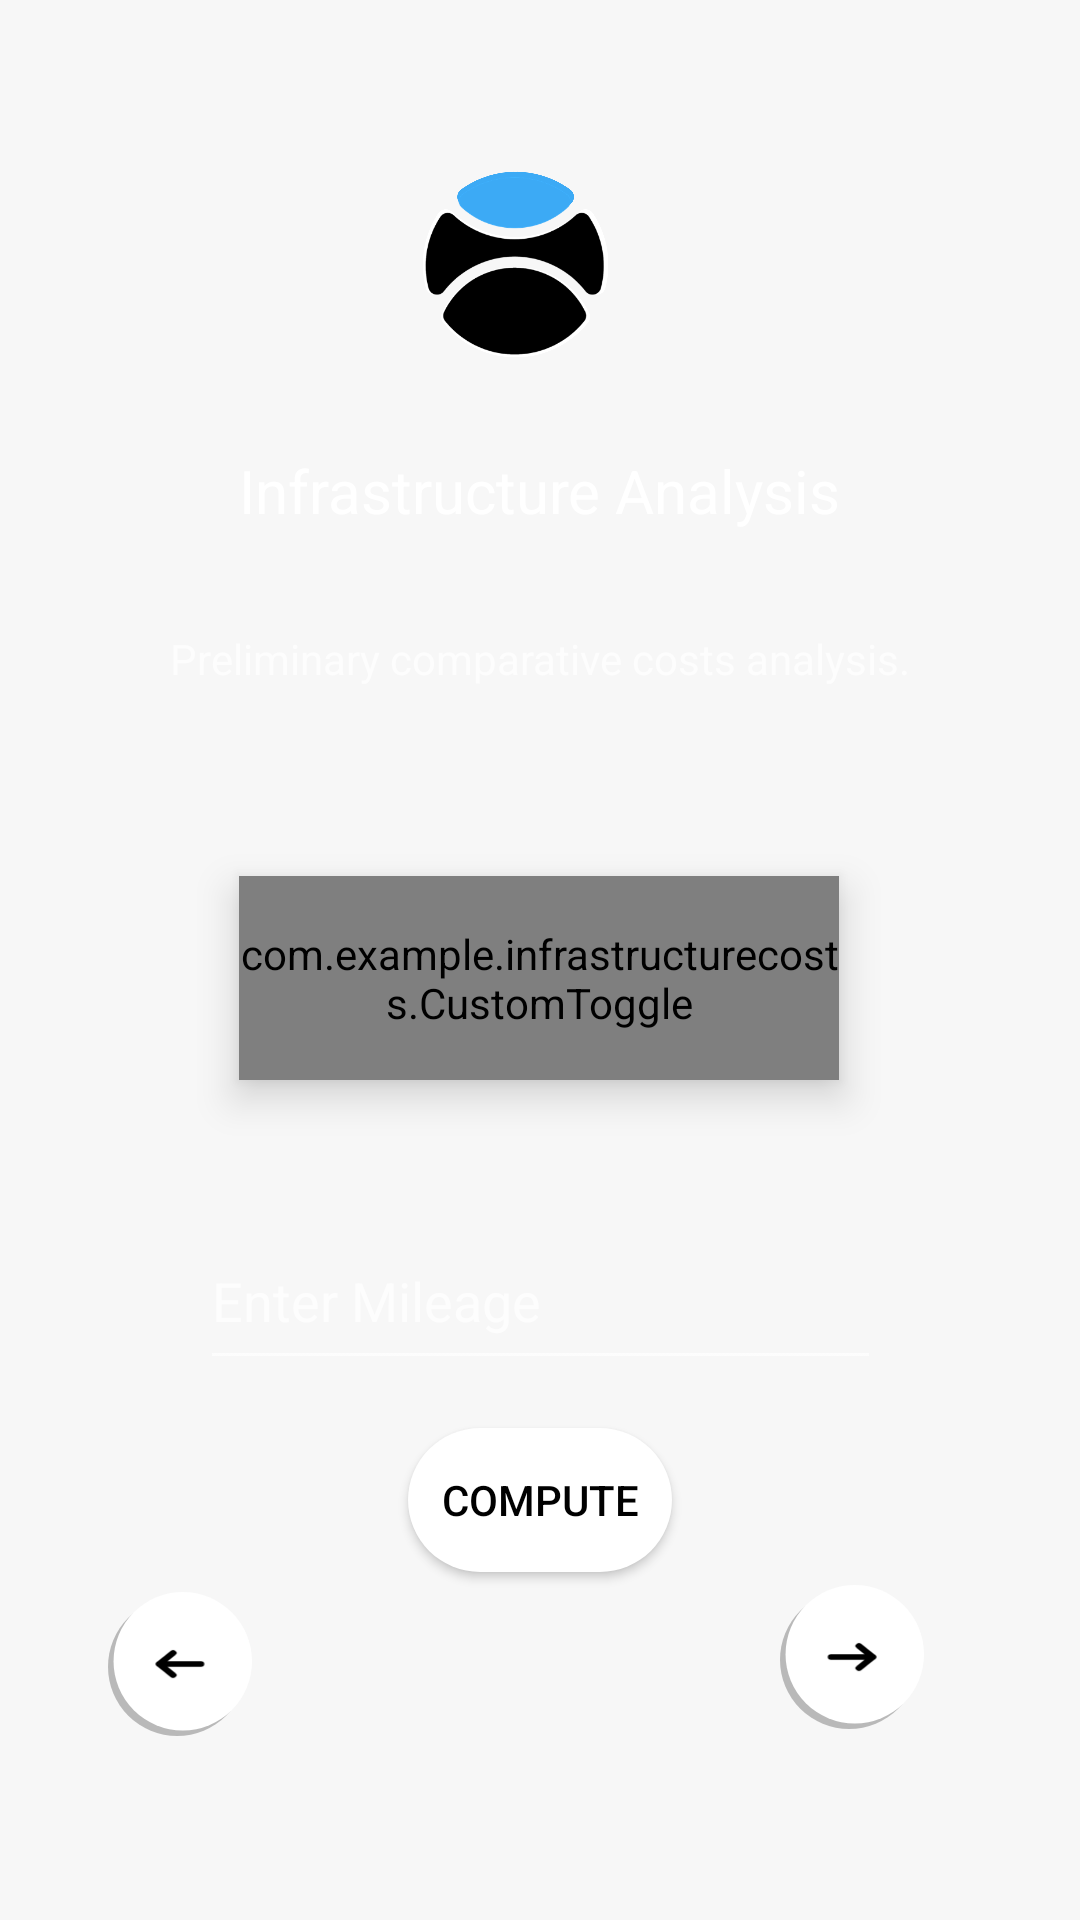

Where icons sit on this 1080*1920 app screen, as (x1, y1, x2, y2):
arrowleft: (108, 1592, 252, 1736)
arrowright: (780, 1585, 924, 1729)
